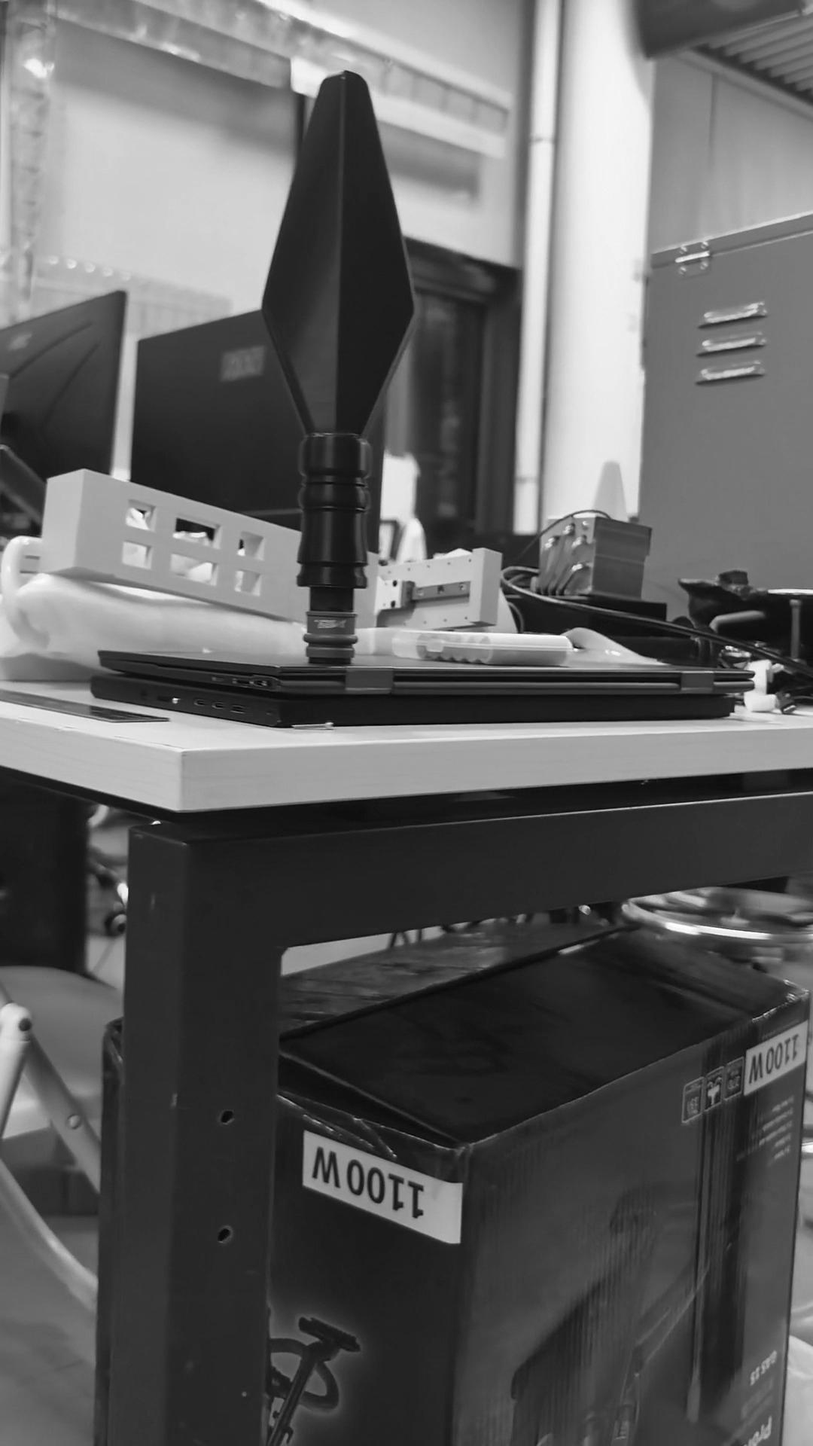base: (301, 603, 364, 683)
